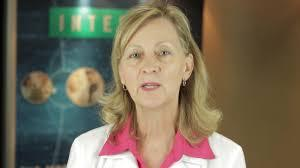normalEye: (126, 42, 179, 63)
normalMouth: (136, 80, 163, 93)
